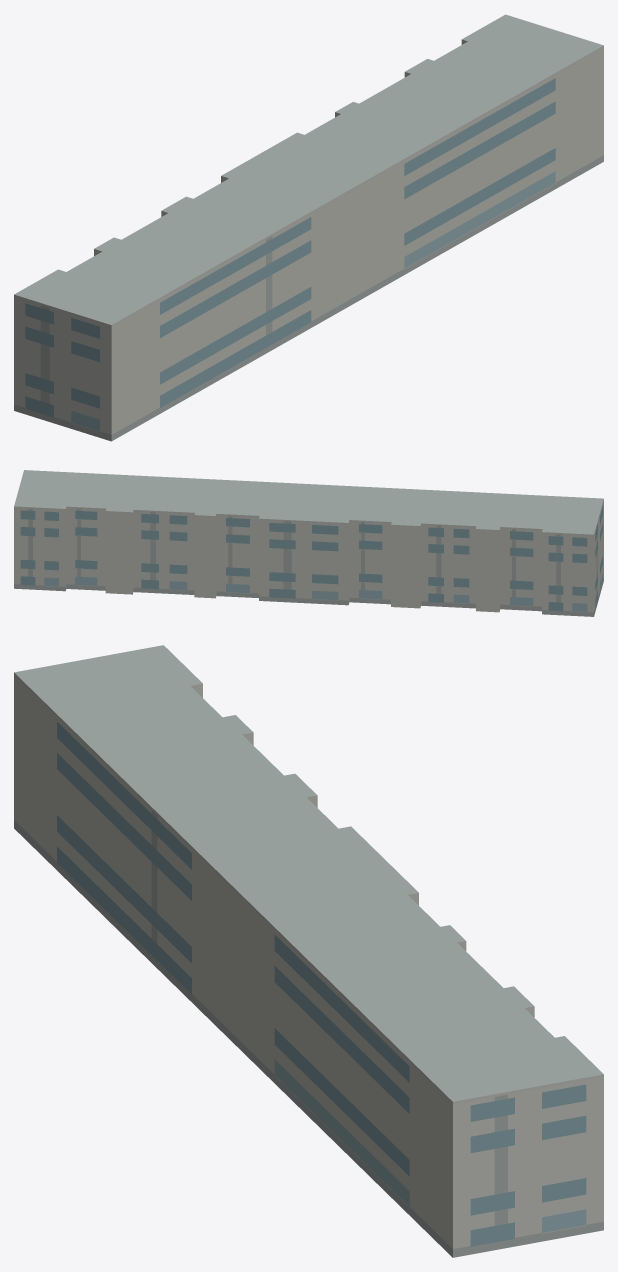
File: residential-a2530da0-cef7-47f7-83dc-d1380f59d22e.glb
3 views of the same model, one above another, from view 1: azimuth 30°, elevation 25°; view 2: azimuth 150°, elevation 25°; view 3: azimuth 270°, elevation 25° (orthographic). The views are drawn at different scales.
Parts seen in each view (by area): view 1: residential-a2530da0-cef7-47f7-83dc-d1380f59d22e.tmp; view 2: residential-a2530da0-cef7-47f7-83dc-d1380f59d22e.tmp; view 3: residential-a2530da0-cef7-47f7-83dc-d1380f59d22e.tmp.
Part boxes in pixels (left/top/right/bottom): residential-a2530da0-cef7-47f7-83dc-d1380f59d22e.tmp: left=14, top=14, right=603, bottom=441; residential-a2530da0-cef7-47f7-83dc-d1380f59d22e.tmp: left=14, top=470, right=603, bottom=616; residential-a2530da0-cef7-47f7-83dc-d1380f59d22e.tmp: left=14, top=645, right=603, bottom=1257.
Bounding box in the file's own units: 87.9 × 14 × 47.98.
